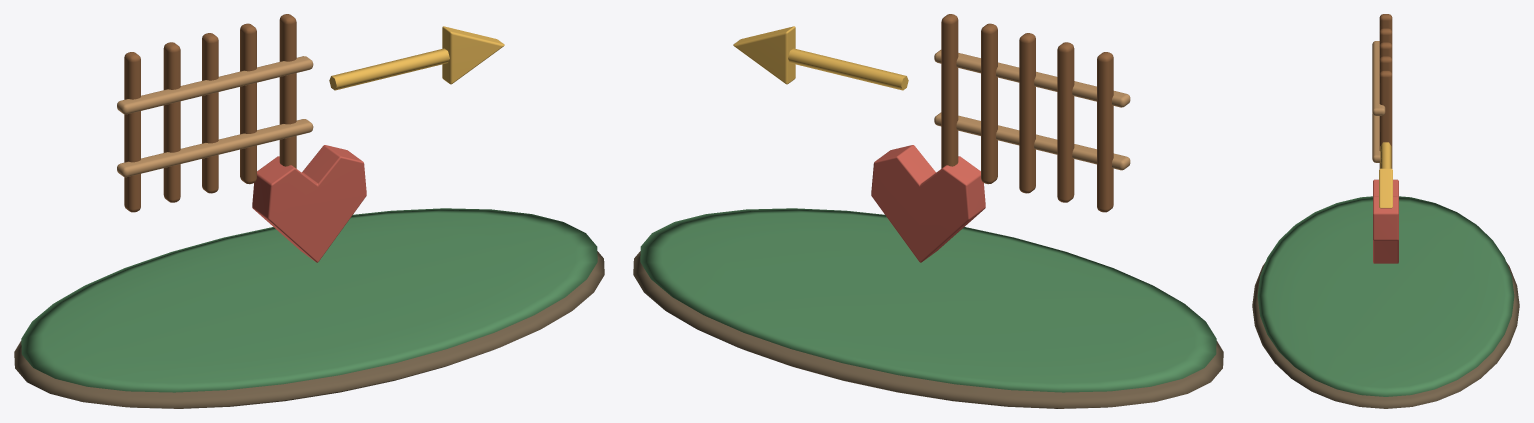
The model's file is complete-second-sad-obstacle.glb.
3 renders of one model, left to right at view 1: azimuth 30°, elevation 25°; view 2: azimuth 150°, elevation 25°; view 3: azimuth 270°, elevation 25°, orthographic. The views are drawn at different scales.
Visible parts, largest first — view 1: complete-second-sad-obstacle_surface_01, complete-second-sad-obstacle_surface_02, complete-second-sad-obstacle_surface_00, complete-second-sad-obstacle_surface_05, complete-second-sad-obstacle_surface_03, complete-second-sad-obstacle_surface_04; view 2: complete-second-sad-obstacle_surface_01, complete-second-sad-obstacle_surface_02, complete-second-sad-obstacle_surface_00, complete-second-sad-obstacle_surface_05, complete-second-sad-obstacle_surface_04, complete-second-sad-obstacle_surface_03; view 3: complete-second-sad-obstacle_surface_01, complete-second-sad-obstacle_surface_00, complete-second-sad-obstacle_surface_02, complete-second-sad-obstacle_surface_05, complete-second-sad-obstacle_surface_03, complete-second-sad-obstacle_surface_04.
Boxes of the visible parts, box(x1,y1,x2,y2) form: complete-second-sad-obstacle_surface_01: box(21, 208, 597, 392); complete-second-sad-obstacle_surface_02: box(124, 14, 296, 212); complete-second-sad-obstacle_surface_00: box(14, 251, 604, 408); complete-second-sad-obstacle_surface_05: box(252, 145, 366, 262); complete-second-sad-obstacle_surface_03: box(117, 56, 313, 177); complete-second-sad-obstacle_surface_04: box(329, 26, 504, 90); complete-second-sad-obstacle_surface_01: box(640, 208, 1216, 392); complete-second-sad-obstacle_surface_02: box(941, 14, 1113, 212); complete-second-sad-obstacle_surface_00: box(633, 251, 1223, 408); complete-second-sad-obstacle_surface_05: box(871, 145, 985, 262); complete-second-sad-obstacle_surface_04: box(733, 26, 908, 90); complete-second-sad-obstacle_surface_03: box(934, 50, 1130, 170); complete-second-sad-obstacle_surface_01: box(1257, 196, 1514, 396); complete-second-sad-obstacle_surface_00: box(1252, 262, 1519, 408); complete-second-sad-obstacle_surface_02: box(1379, 14, 1392, 168); complete-second-sad-obstacle_surface_05: box(1373, 179, 1398, 263); complete-second-sad-obstacle_surface_03: box(1372, 41, 1385, 162); complete-second-sad-obstacle_surface_04: box(1379, 142, 1392, 208).
Size of the model in its own units: 4.56 by 2.47 by 2.5.
